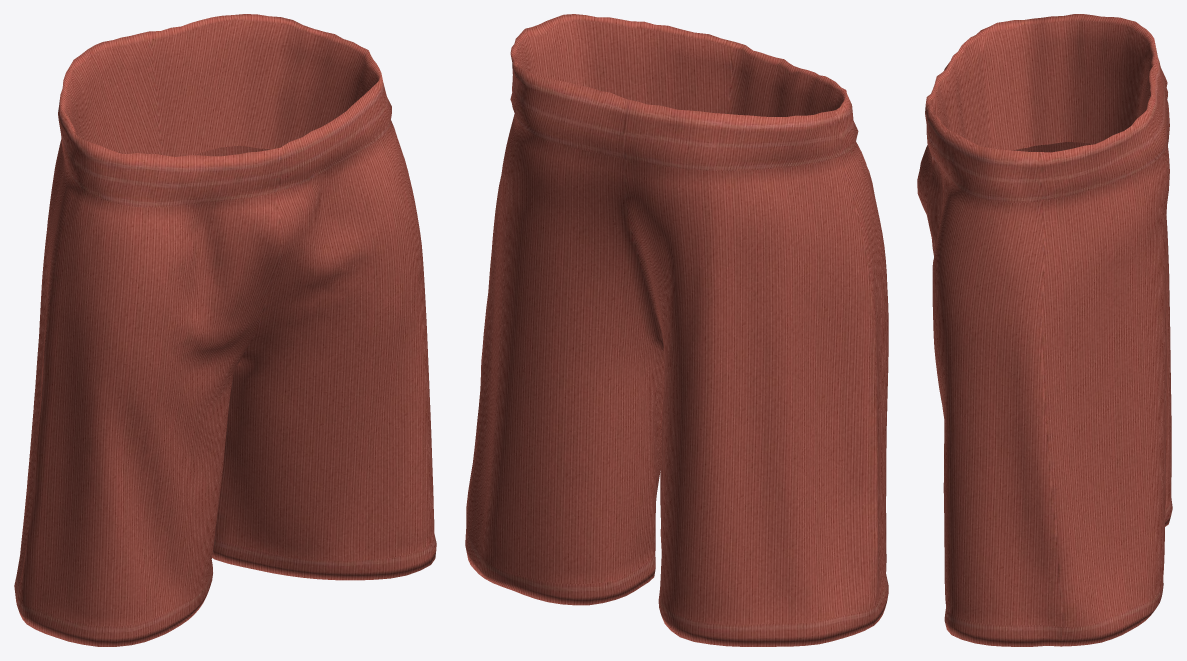
File: short-deportivo-coral.glb
The picture shows the model from 3 angles, left to right: view 1: azimuth 30°, elevation 25°; view 2: azimuth 150°, elevation 25°; view 3: azimuth 270°, elevation 25°; orthographic projection. The views are drawn at different scales.
Visible parts, largest first — view 1: Object_2; view 2: Object_2; view 3: Object_2.
Part boxes in pixels (bbox=[...]): Object_2: bbox=[14, 14, 436, 646]; Object_2: bbox=[465, 14, 888, 646]; Object_2: bbox=[917, 14, 1172, 646].
Bounding box in the file's own units: 0.3917 × 0.5 × 0.232.
1 material, 1 textured.
